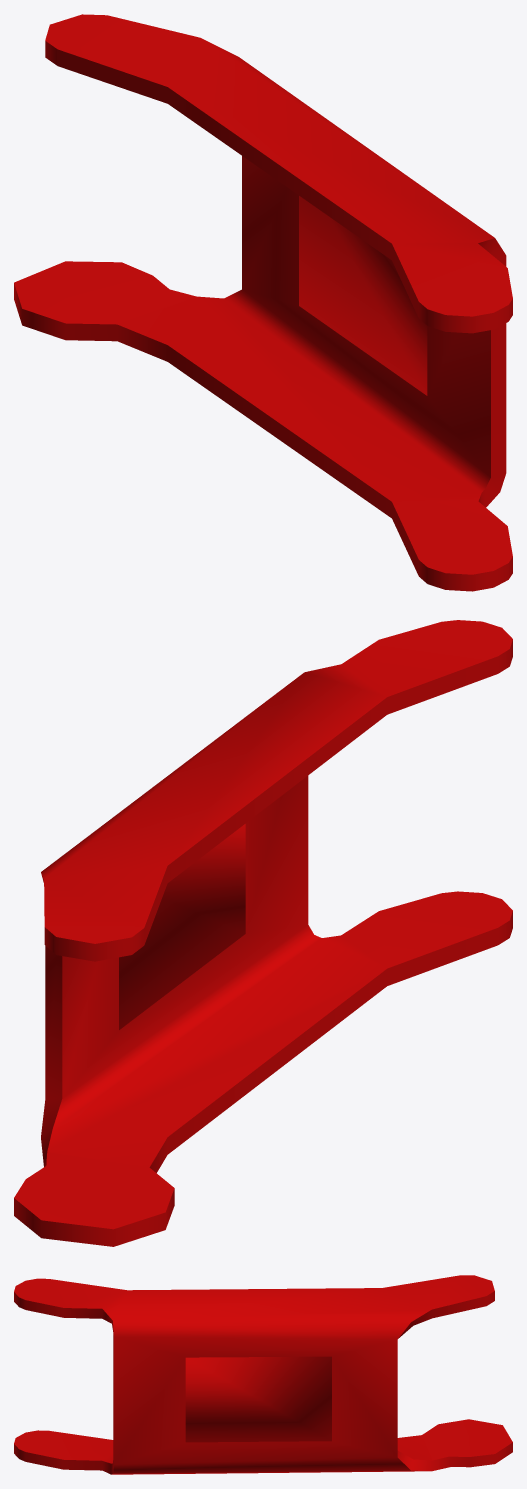
Rendered from arm_1_collision.dae.
3 renders of one model, top to bottom at view 1: azimuth 30°, elevation 25°; view 2: azimuth 150°, elevation 25°; view 3: azimuth 270°, elevation 25°, orthographic. The views are drawn at different scales.
Visible parts, largest first — view 1: arm_1_collision; view 2: arm_1_collision; view 3: arm_1_collision.
Part boxes in pixels (x1,y1,x2,y2): arm_1_collision: (14, 14, 512, 591); arm_1_collision: (14, 620, 512, 1246); arm_1_collision: (14, 1275, 512, 1474).
Bounding box in the file's own units: 0.0348 × 0.0501 × 0.1401.
